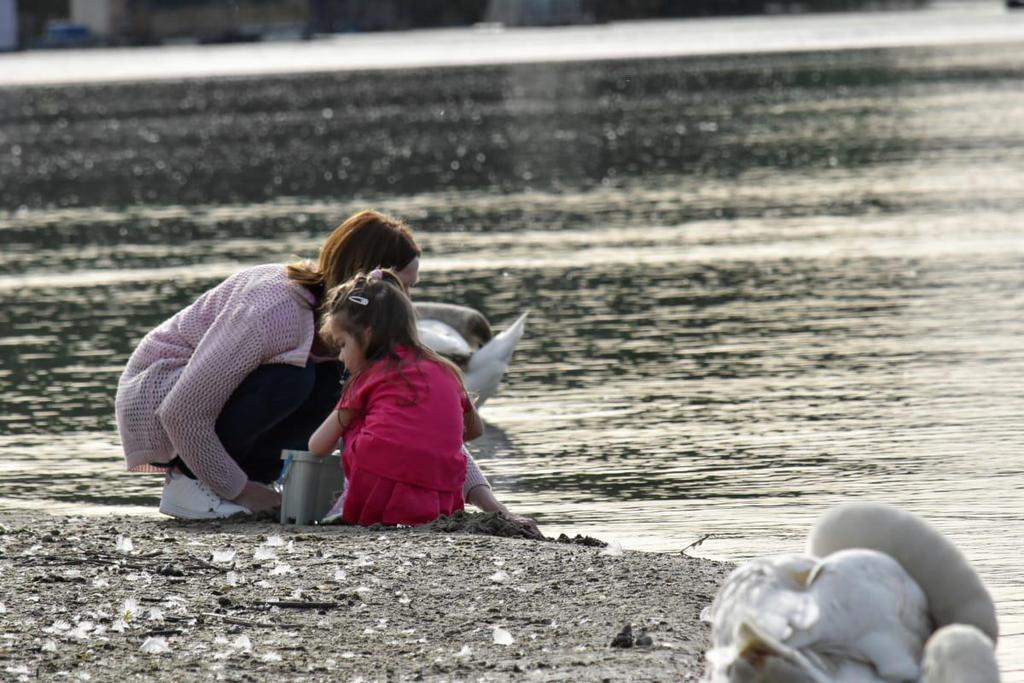child: (310, 283, 495, 536)
